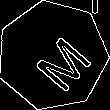M_NW: (18, 22, 87, 89)
